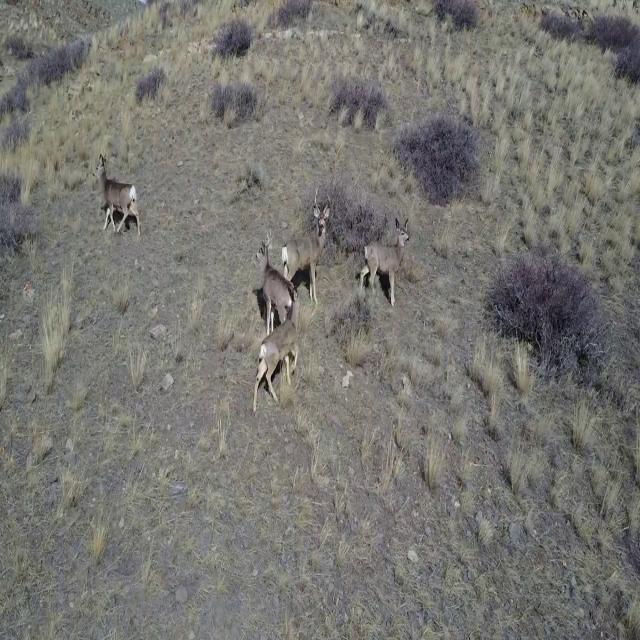Deer: (252, 298, 304, 415), (283, 187, 335, 300), (358, 212, 411, 310), (252, 228, 300, 330), (92, 154, 142, 245)
